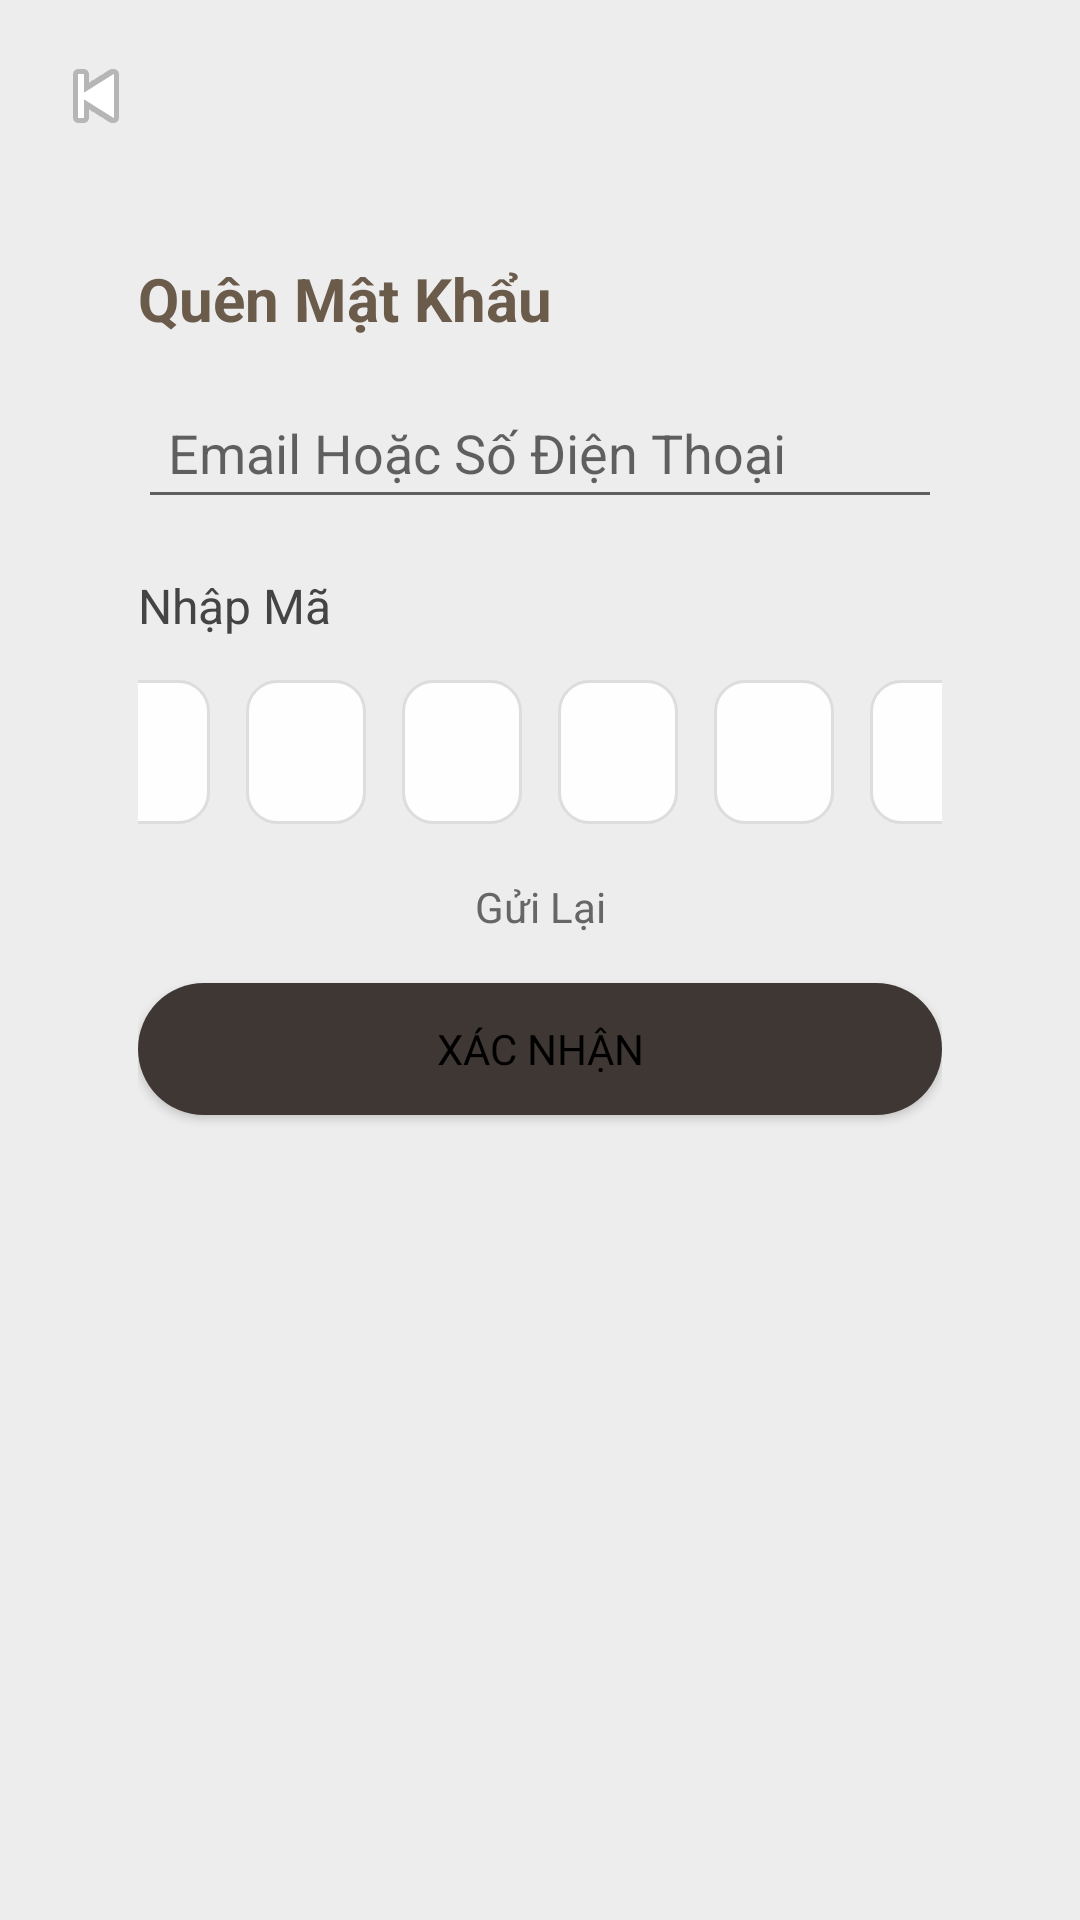

Where icons sit on this 1080x1920 app screen, as (x1, y1, x2, y2):
previous: (73, 69, 119, 123)
